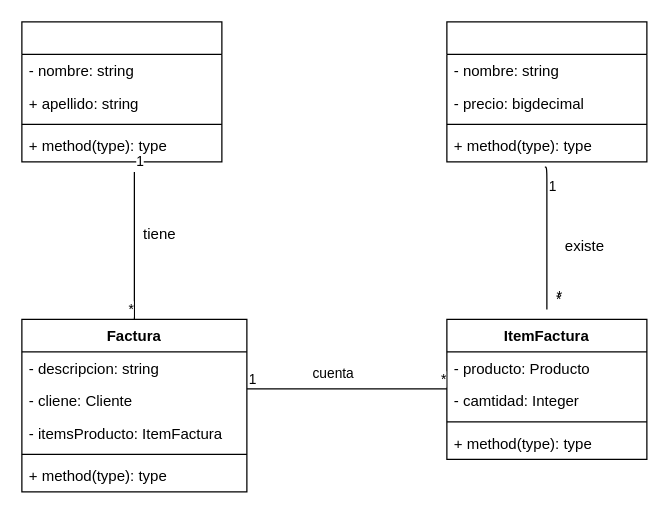
Image size: 669x518. Some labels were removed from this diagram. Each missing label, with the box of its shape:
Cliente: (21, 21, 222, 162)
Producto: (446, 21, 647, 162)
